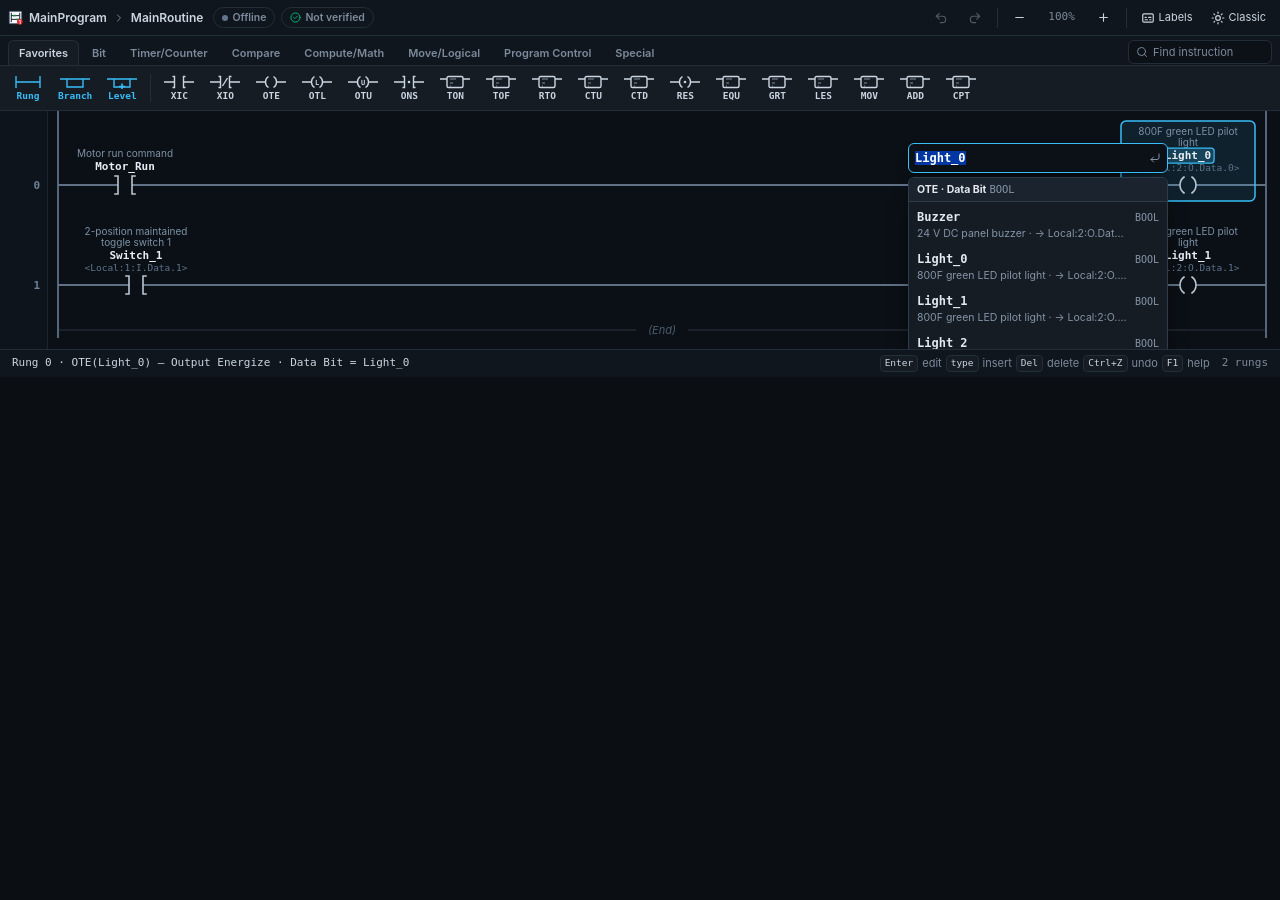
Test: operand autocomplete › the "New tag" row uses the name and opens the New Tag dialog
The width and height of the screenshot is (1280, 900).
Replace the text in the field named "OTE" with "Horn" at (1030, 158), box [915,144,1145,172]
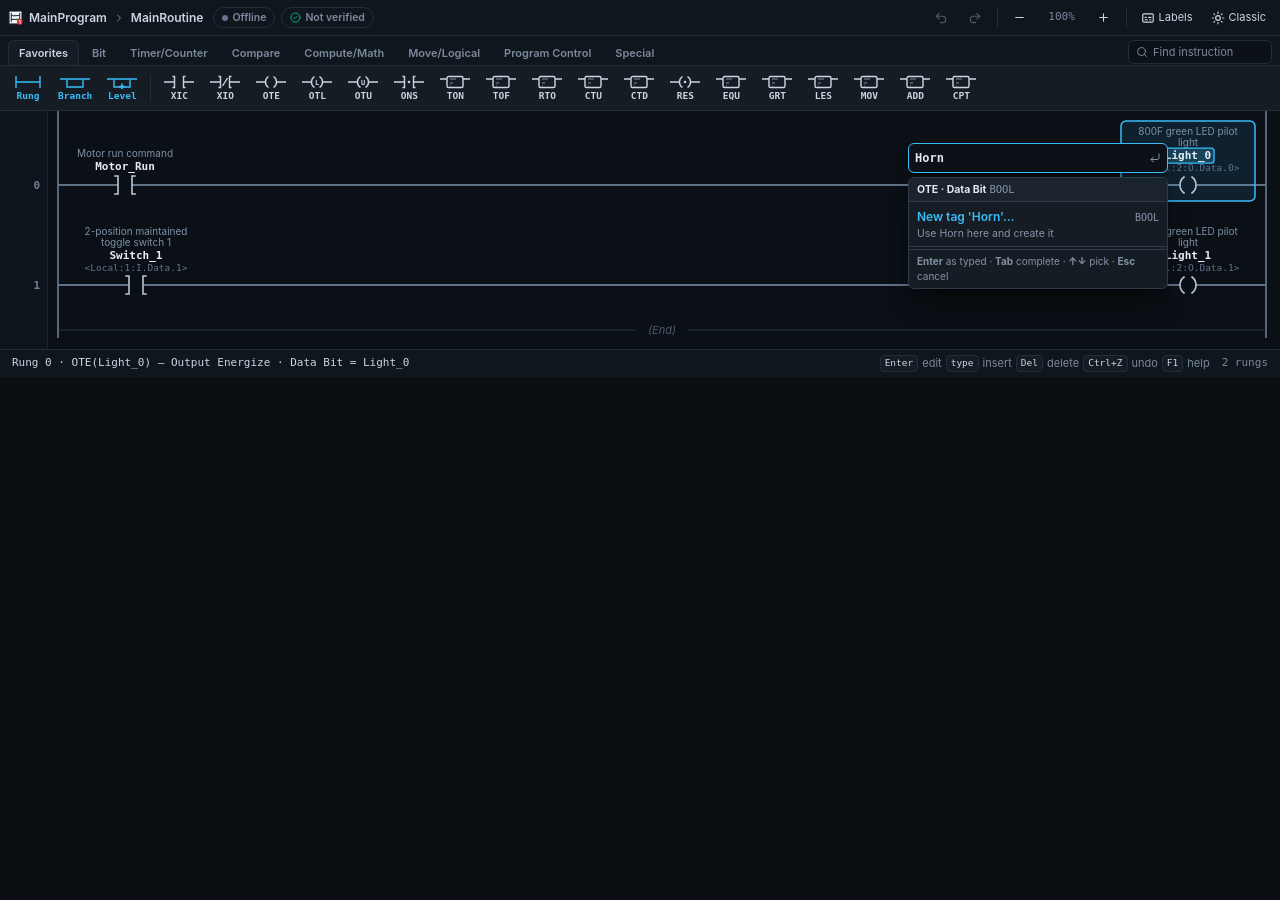
Press ArrowDown in the field named "OTE", box [915,144,1145,172]
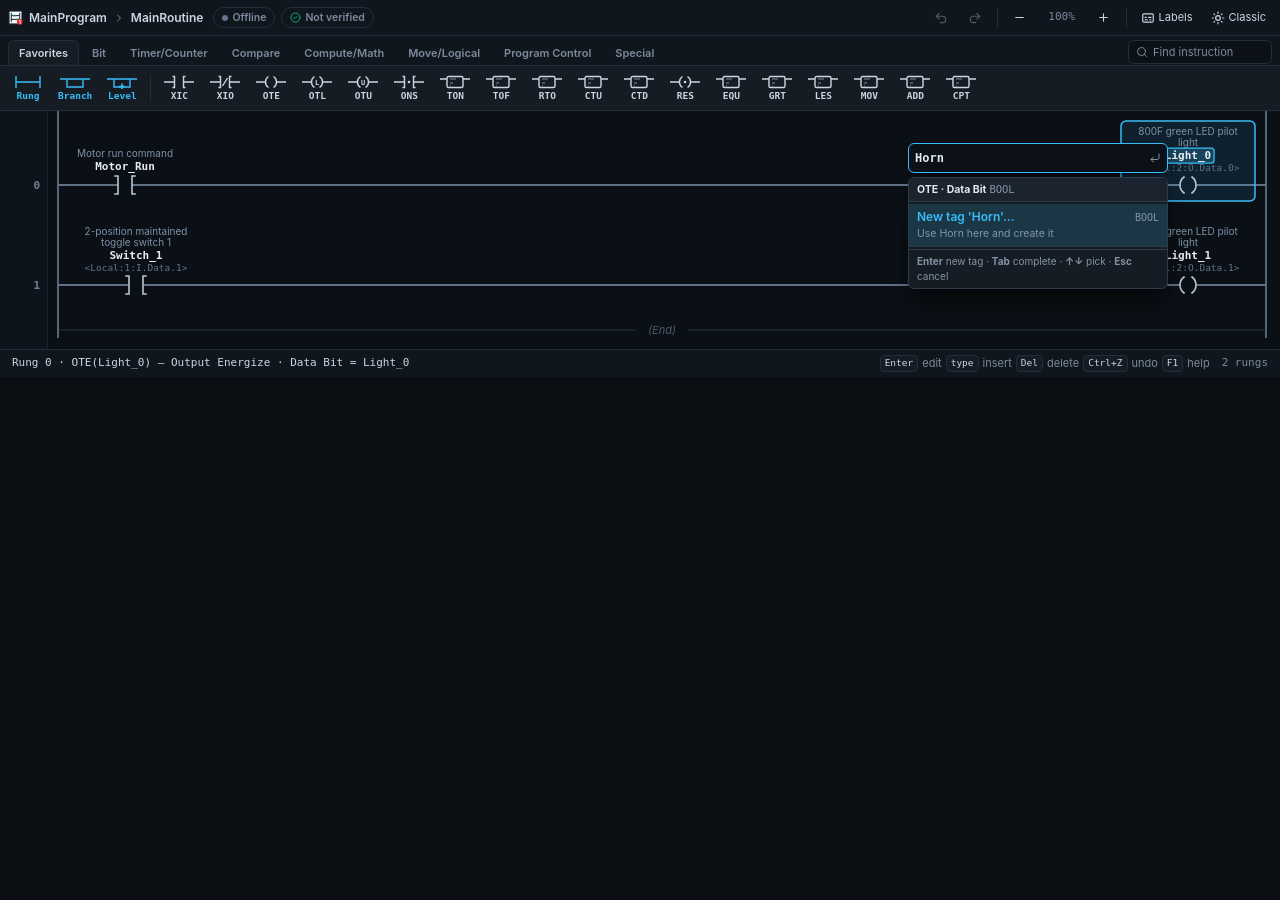
Press Enter in the field named "OTE", box [915,144,1145,172]
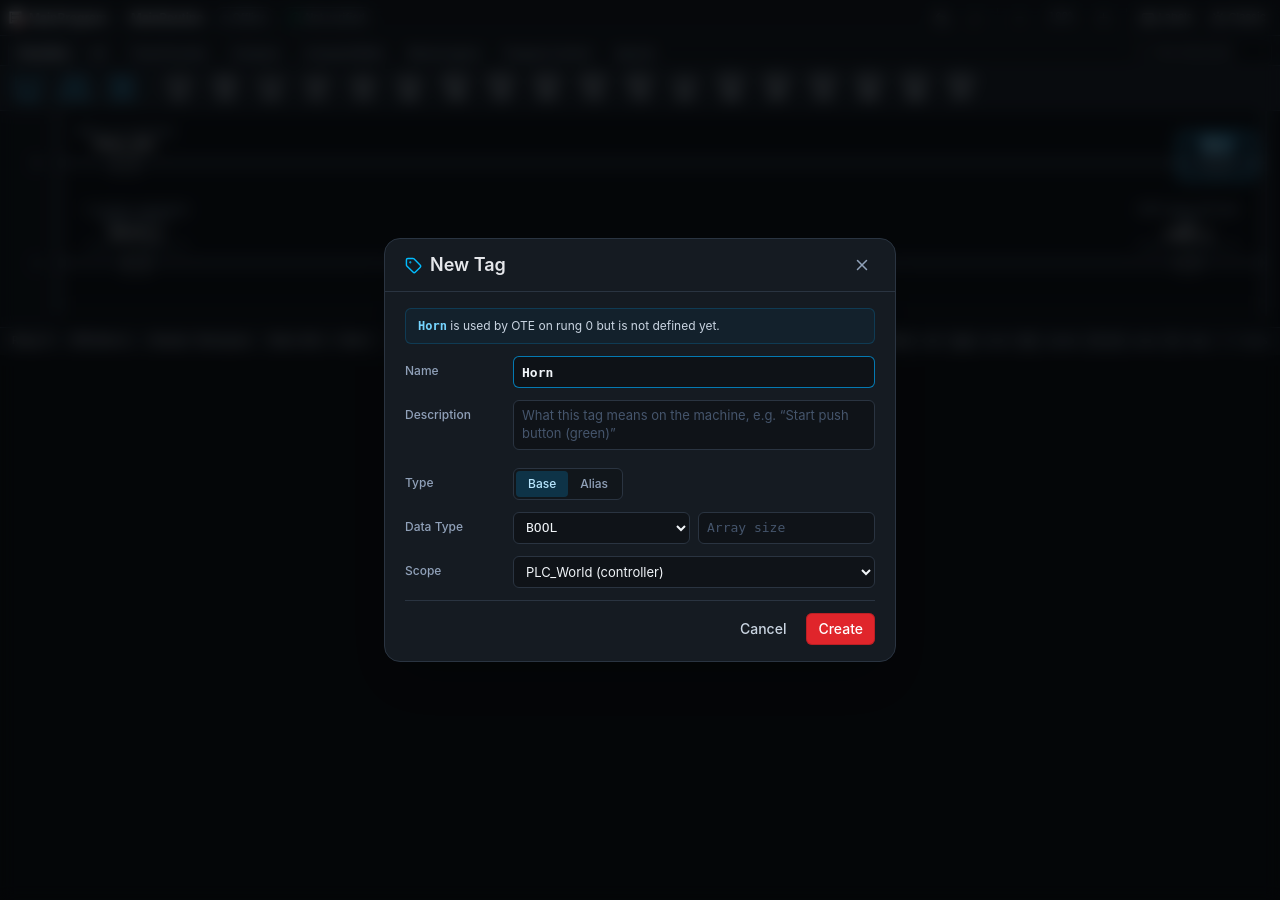
Now the field named "Tag name" holds "Horn", box [513,356,875,388]
Now the dropdown labelled "Data Type" shows "BOOL", box [513,512,690,544]
Click the button "Create" at (841, 629), box [806,613,875,645]
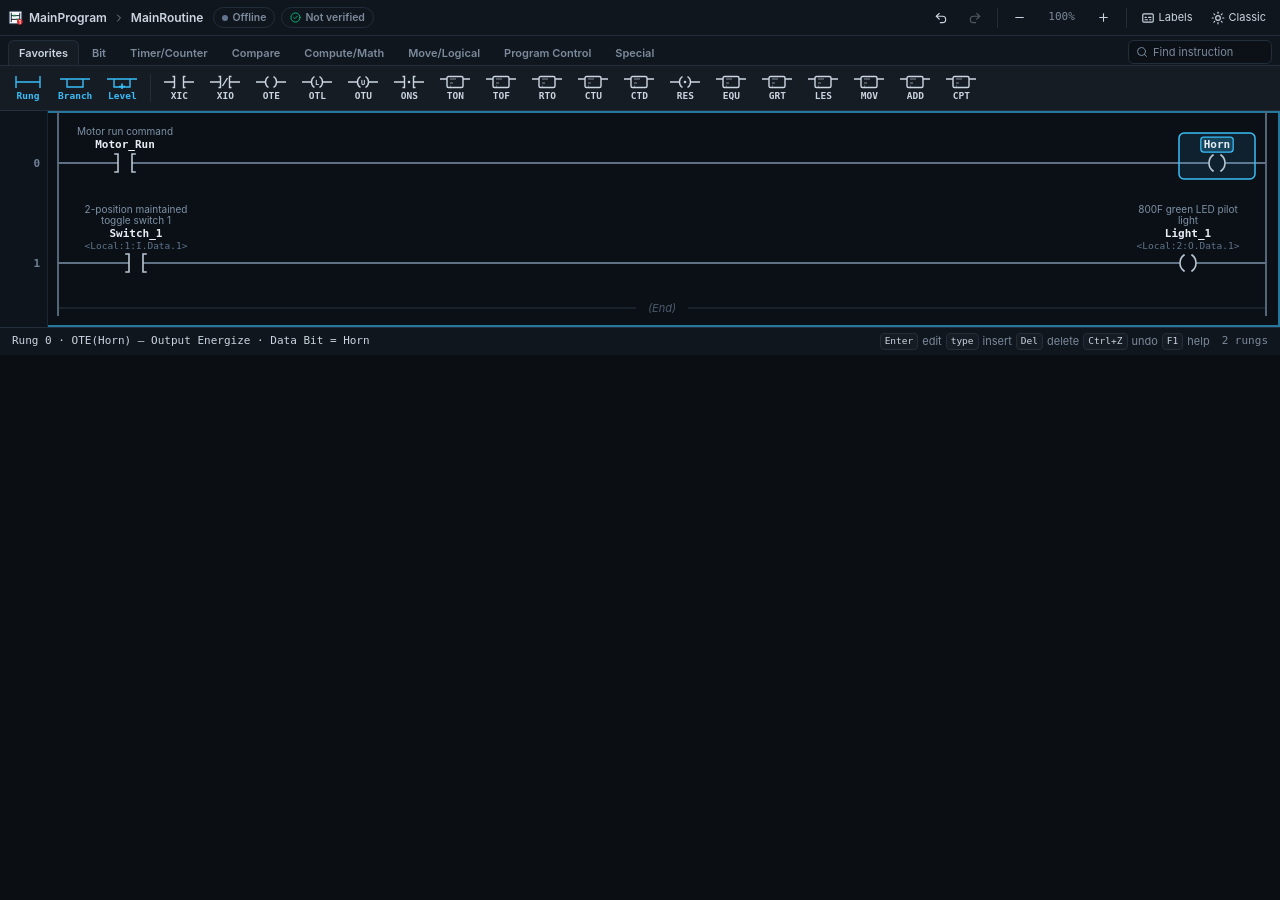
Now the dialog is gone
